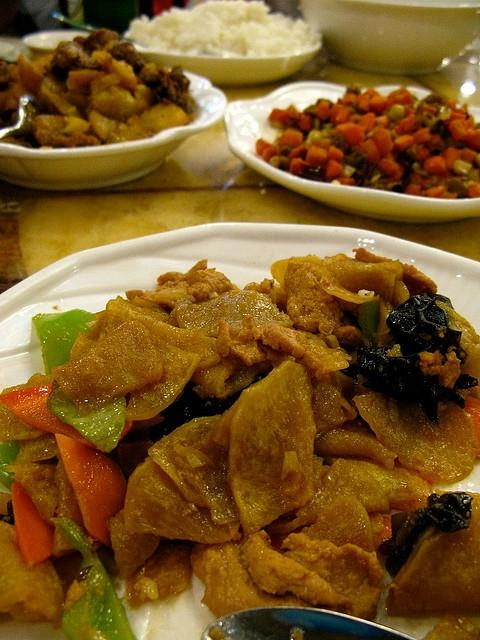bell pepper: (50, 517, 138, 640), (1, 383, 134, 449), (54, 434, 128, 549), (46, 379, 126, 453), (32, 308, 96, 376), (11, 482, 54, 568), (1, 442, 20, 491)
carrot: (0, 382, 135, 449), (55, 434, 126, 546), (12, 482, 54, 566), (335, 120, 470, 146), (465, 395, 480, 460), (255, 138, 280, 164), (438, 147, 463, 170), (306, 100, 332, 122), (372, 128, 392, 156), (279, 128, 303, 150), (330, 104, 353, 126), (424, 155, 448, 176), (388, 89, 414, 106), (396, 114, 417, 135), (306, 145, 328, 165), (324, 160, 344, 182), (376, 516, 392, 540), (270, 109, 290, 128), (378, 158, 401, 174), (394, 134, 414, 151), (412, 128, 432, 144), (327, 146, 344, 162), (298, 114, 313, 132), (468, 128, 480, 150), (466, 182, 480, 198), (404, 183, 421, 196), (286, 105, 300, 120), (341, 94, 358, 106), (414, 149, 430, 161), (357, 99, 371, 112), (362, 88, 380, 98), (394, 124, 406, 134), (438, 192, 458, 198)
